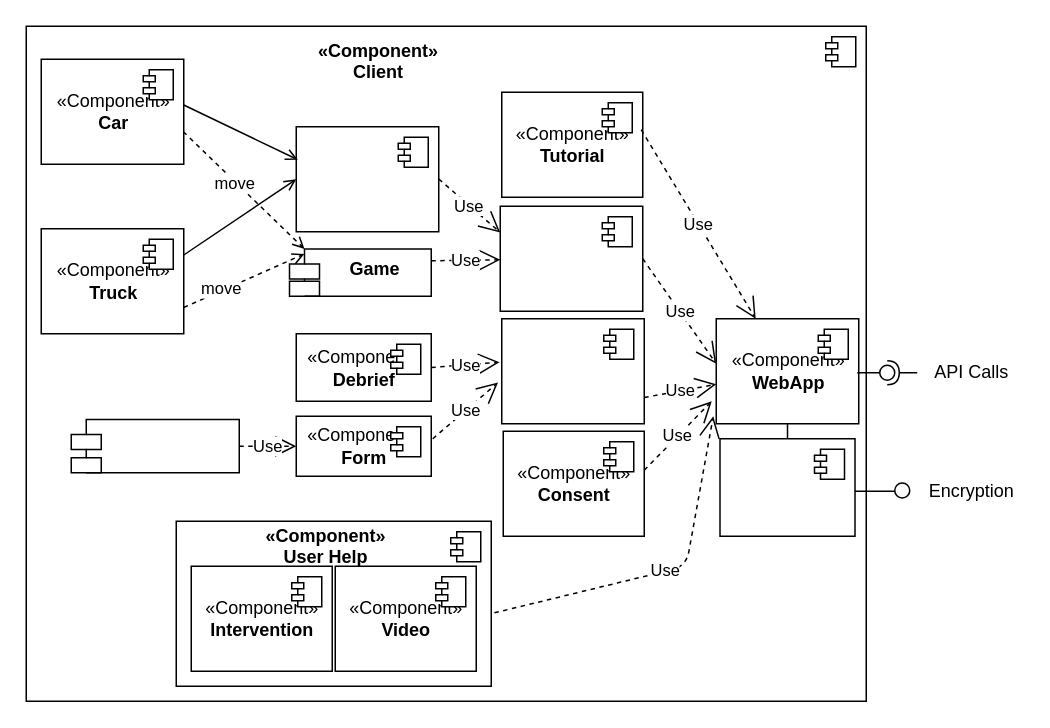
Some shapes in this 1050 by 728 pixel diagram are drawn without their labels. Here are the shapes that lost their labels. From the top down, the box of each, then its label:
(295, 125, 439, 232): «Component» Square
(499, 205, 643, 311): «Component» Board
(500, 317, 644, 424): «Component» Survey
(70, 418, 239, 473): Form Validation
(718, 437, 855, 536): «Component» Helmet
